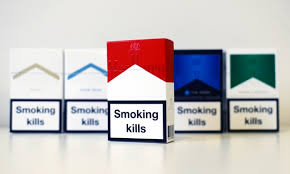marlboro: (108, 41, 166, 142)
